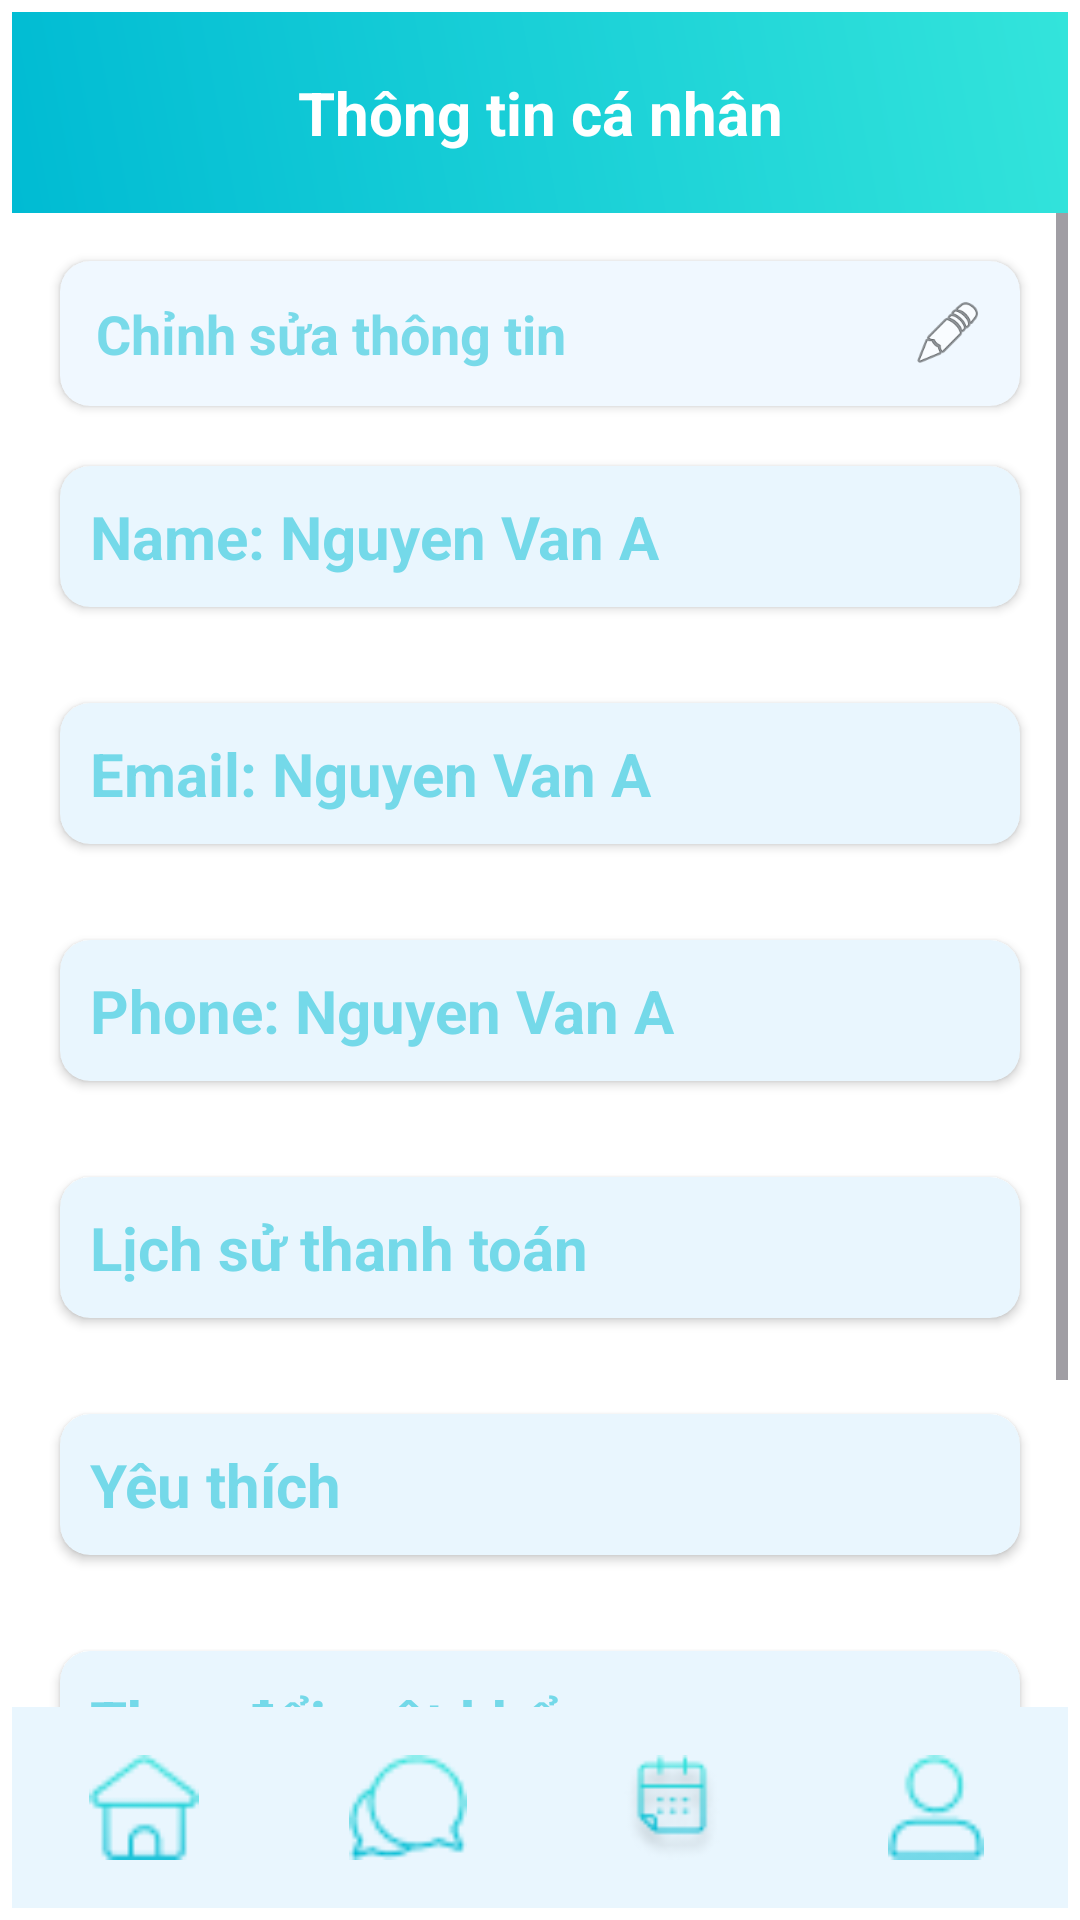

Named icons in this screenshot (1080px x 1920px) and their bounding boxes, (x1, y1, x2, y2):
booking: (636, 1755, 708, 1836)
edit: (917, 302, 978, 363)
home: (89, 1755, 199, 1860)
mess: (349, 1755, 467, 1860)
profile: (888, 1755, 984, 1860)
